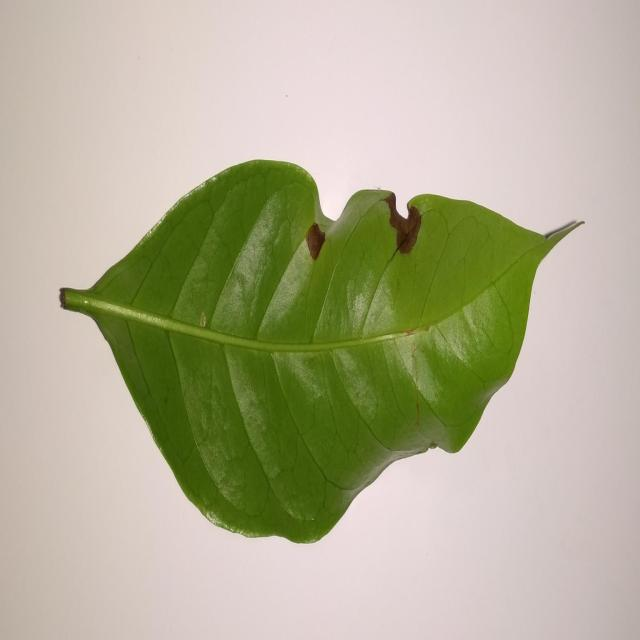phoma: (382, 192, 421, 254), (305, 223, 326, 261)
